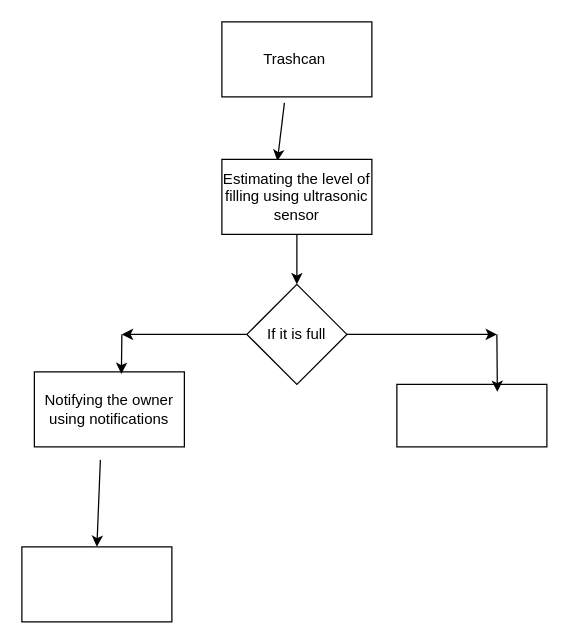
Image size: 569x644. Some labels were removed from this diagram. Each missing label, with the box of its shape:
Notifying the owner about trash collection day: (21, 546, 172, 622)
Turning the LED light to RED: (396, 383, 547, 447)
